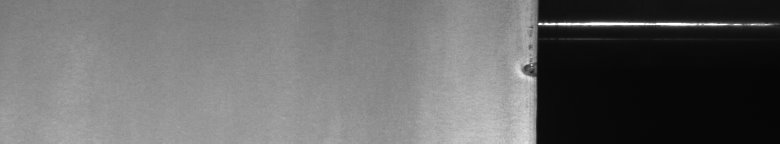hb: (514, 58, 524, 84)
